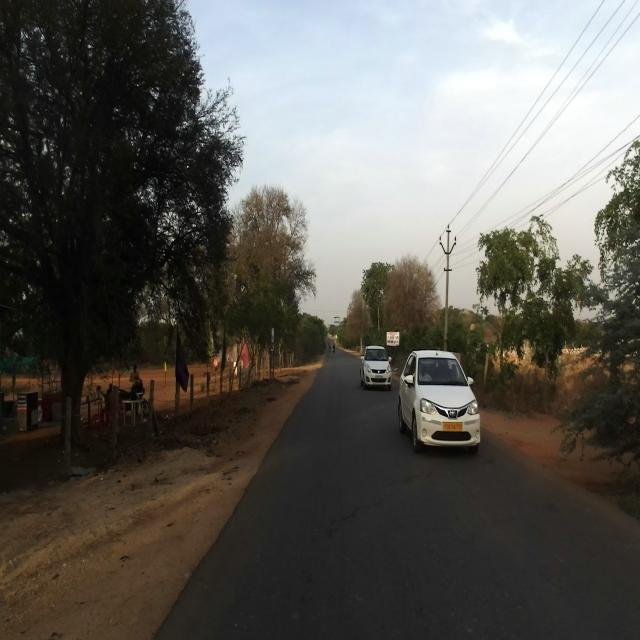Car_Maruti-Suzuki: (360, 344, 393, 391)
Car_Toyota: (397, 349, 481, 450)
